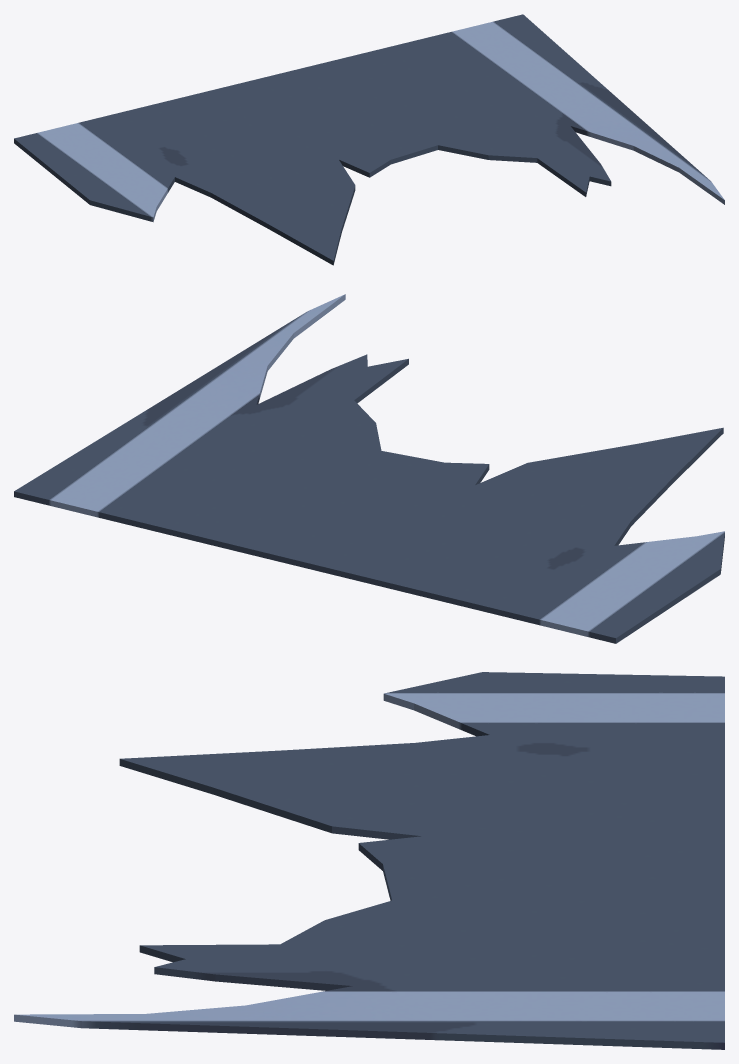
The model's file is Carpet 01 End 01.fbx.
The picture shows the model from 3 angles, top to bottom: view 1: azimuth 30°, elevation 25°; view 2: azimuth 150°, elevation 25°; view 3: azimuth 270°, elevation 25°; orthographic projection. The views are drawn at different scales.
Visible parts, largest first — view 1: Carpet 01 End 01.002; view 2: Carpet 01 End 01.002; view 3: Carpet 01 End 01.002.
Part boxes in pixels (x1,y1,x2,y2): Carpet 01 End 01.002: [14, 14, 724, 265]; Carpet 01 End 01.002: [14, 294, 724, 643]; Carpet 01 End 01.002: [14, 672, 724, 1049].
Bounding box in the file's own units: 169 × 1.5 × 137.
